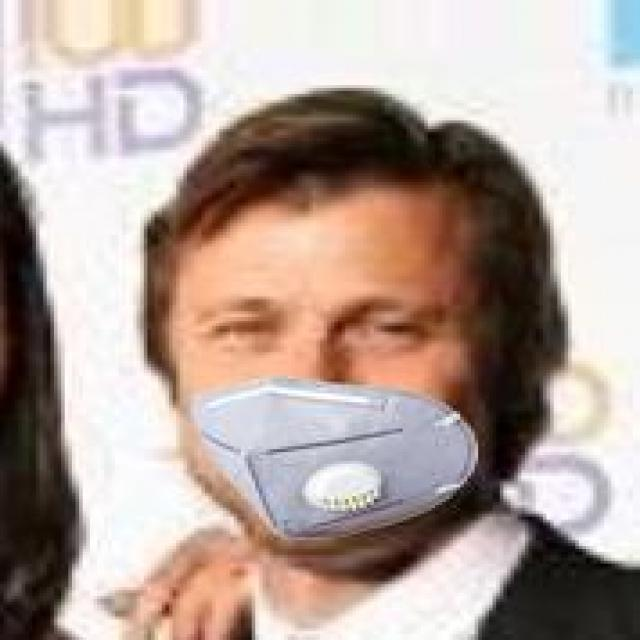mask: (122, 102, 600, 560)
